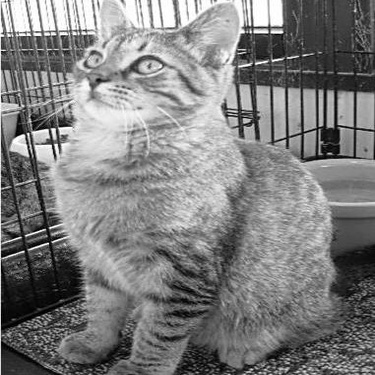cat: (51, 2, 353, 374)
